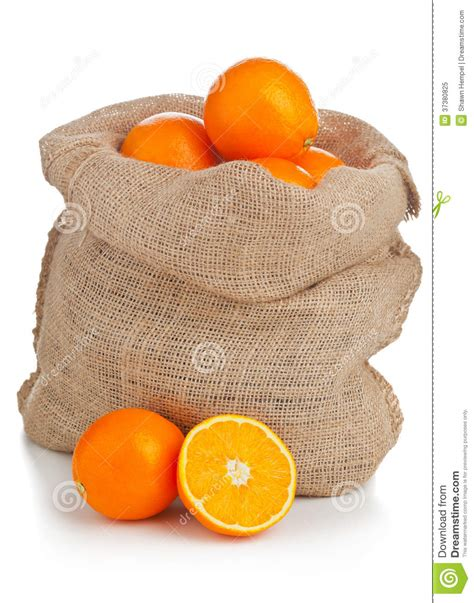orange: (62, 401, 192, 522), (204, 55, 318, 164)
